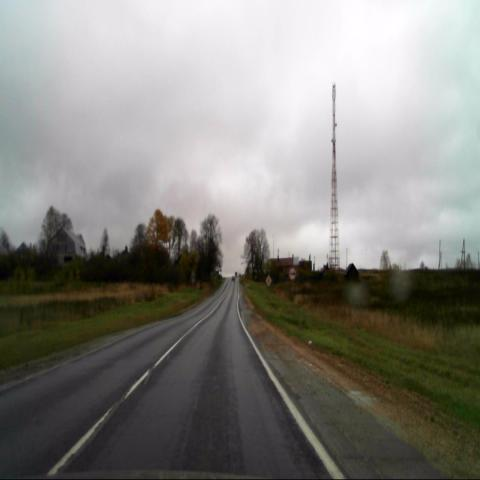2_1: (265, 274, 272, 287)
3_20: (288, 267, 296, 280)
